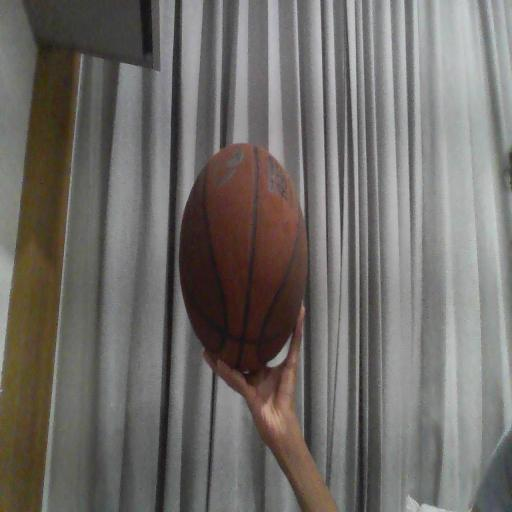basketball: (179, 144, 307, 372)
